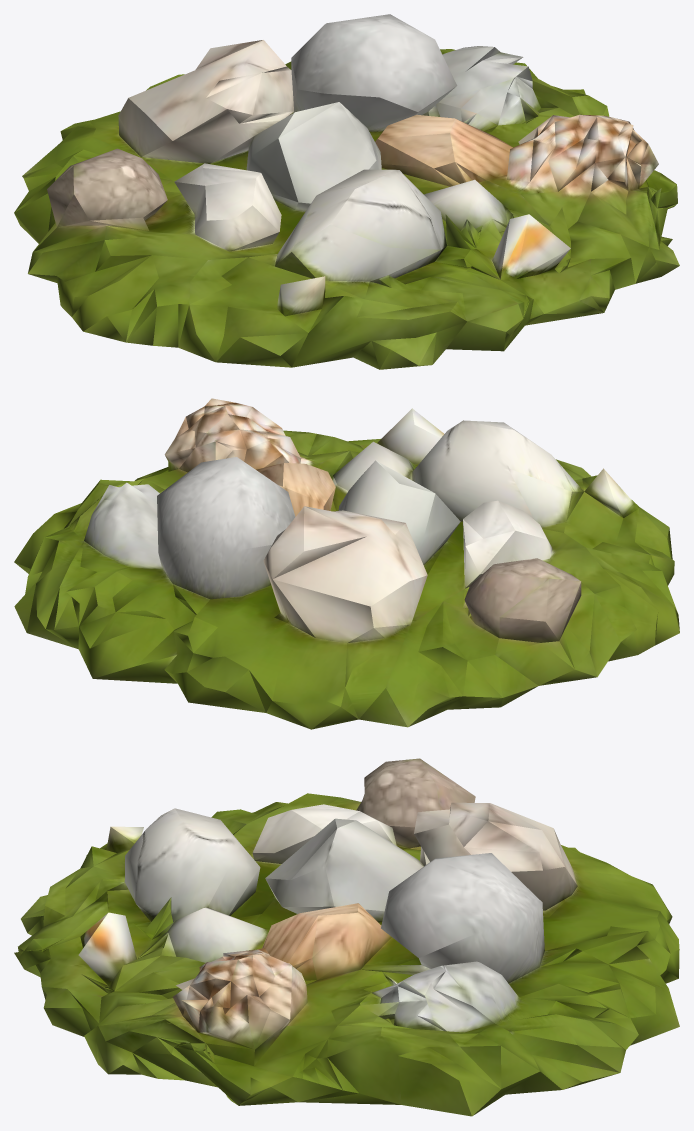
Rendered from beachRocks.glb.
3 views of the same model, one above another, from view 1: azimuth 30°, elevation 25°; view 2: azimuth 150°, elevation 25°; view 3: azimuth 270°, elevation 25° (orthographic). The views are drawn at different scales.
Parts seen in each view (by area): view 1: model; view 2: model; view 3: model.
Boxes of the visible parts, box(x1,y1,x2,y2) form: model: box(14, 14, 679, 369); model: box(14, 398, 679, 729); model: box(14, 758, 679, 1116).
Size of the model in its own units: 1.88 by 0.4562 by 1.8.
Materials: 1 (1 with a texture image).
